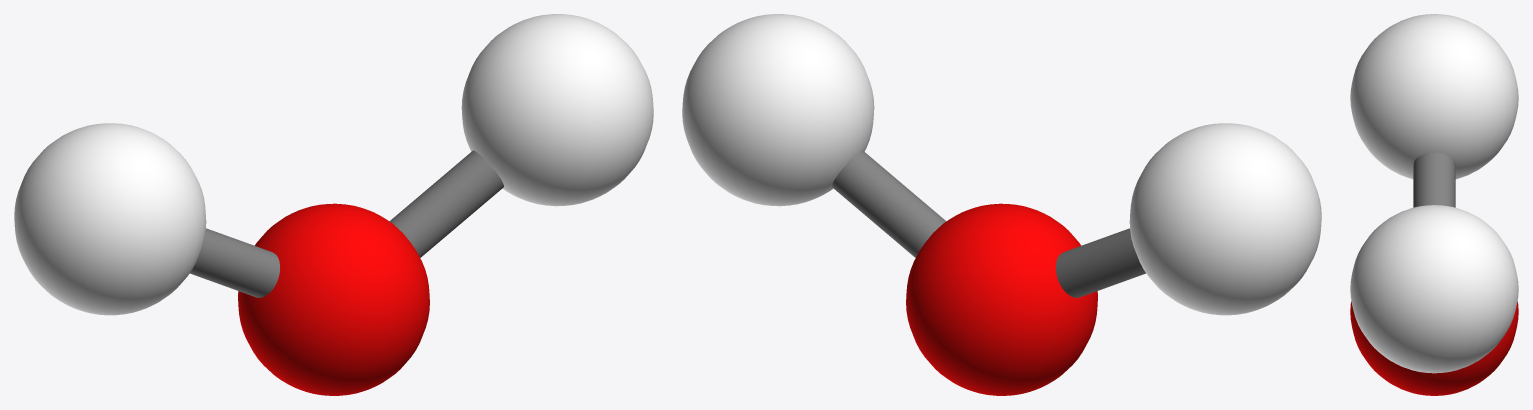
The picture shows the model from 3 angles, left to right: view 1: azimuth 30°, elevation 25°; view 2: azimuth 150°, elevation 25°; view 3: azimuth 270°, elevation 25°; orthographic projection. The views are drawn at different scales.
Size of the model in its own units: 1.47 by 0.71 by 0.4.
